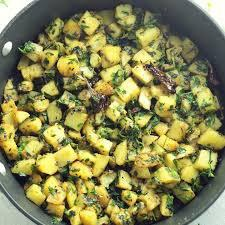Aloo Methi: (2, 5, 225, 225)
